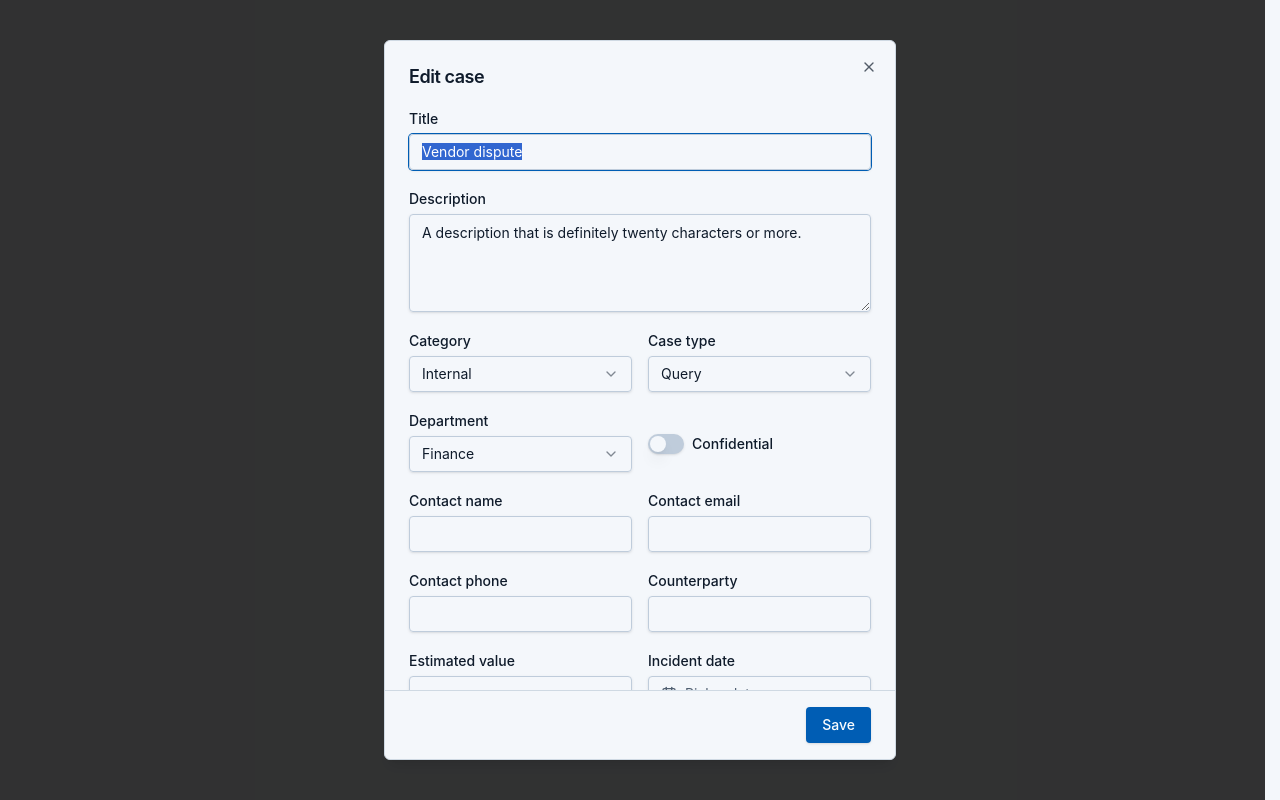
it: EditCaseDialog date rules › will not save a case that has no incident date or business deadline
Click the button "Save" at (839, 725), box [806,707,871,743]
(page scrolled)
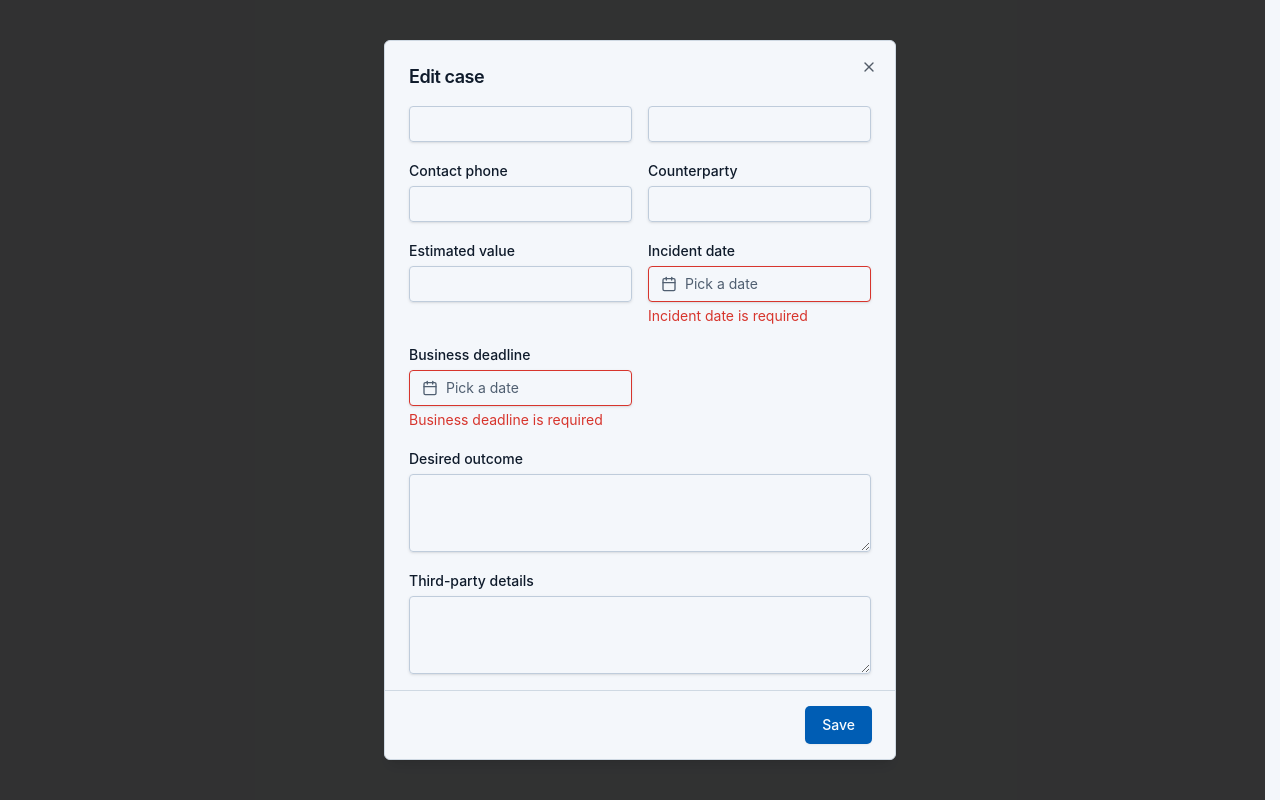
Now the text "Incident date is required" is shown, box [648,307,808,324]
Now the text "Business deadline is required" is shown, box [409,410,632,430]
